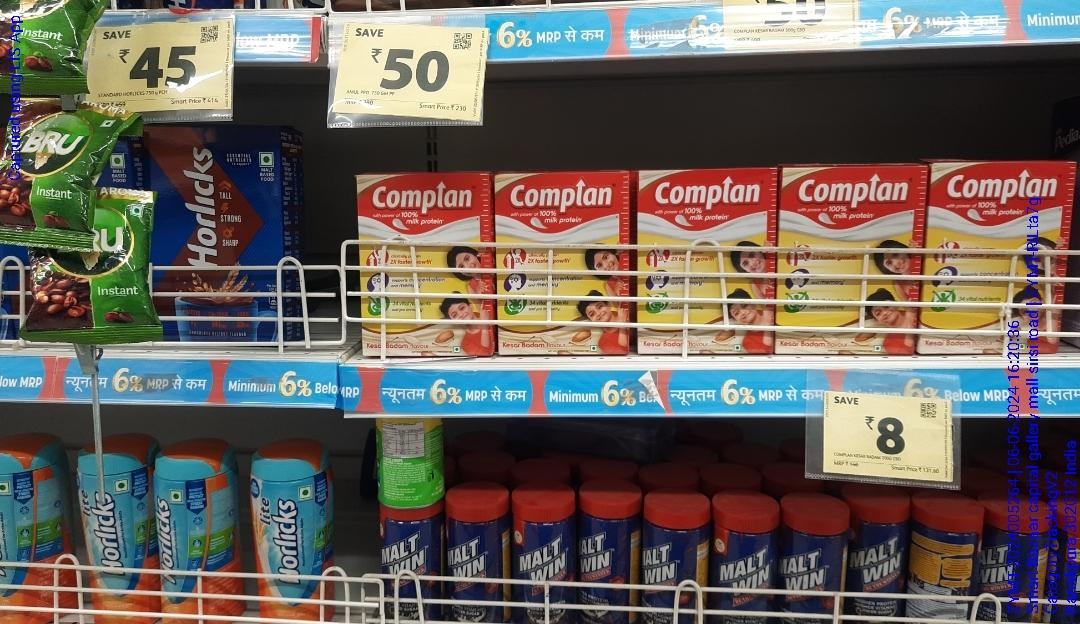COMPLAN_KESAR_BADAM_200_GMS_PACK: (930, 166, 1064, 355), (781, 166, 916, 350), (357, 175, 489, 363), (493, 172, 628, 355), (639, 167, 772, 350)
HORLICKS_LITE_REGULAR_MALT_500_GM_JAR: (82, 444, 154, 624), (250, 458, 321, 624), (155, 456, 225, 624)
HORLICK_CHOCOLATE_500_G_PACK: (151, 130, 285, 346)
